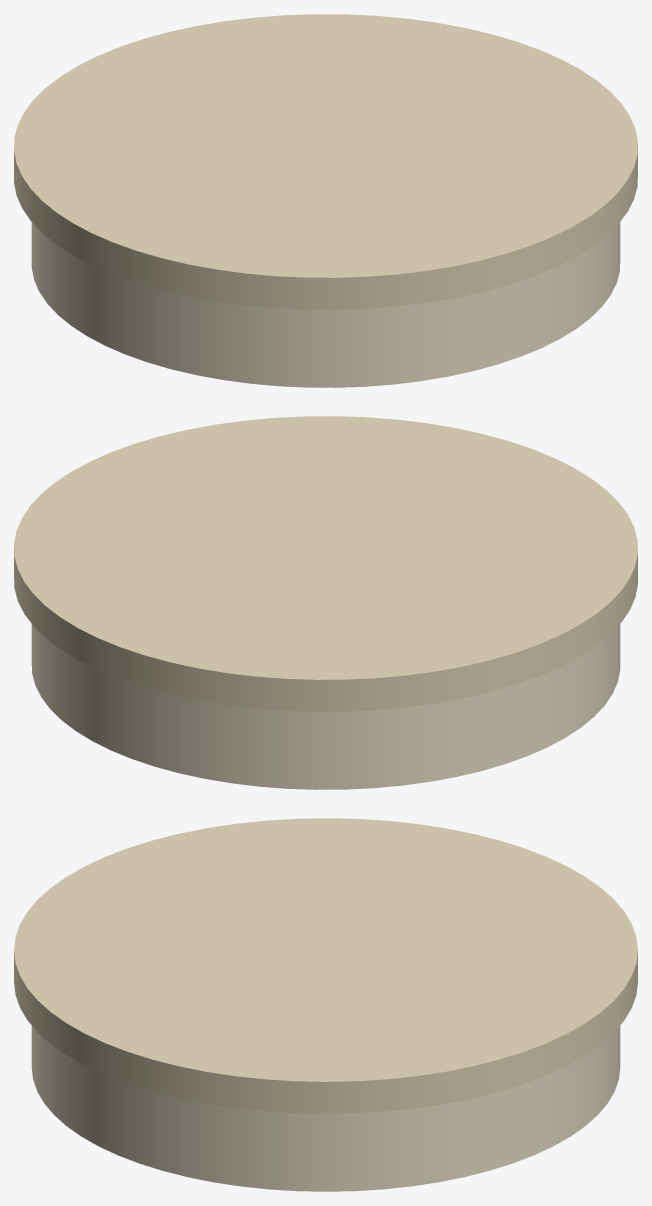
File: sample-model.glb
3 views of the same model, one above another, from view 1: azimuth 30°, elevation 25°; view 2: azimuth 150°, elevation 25°; view 3: azimuth 270°, elevation 25° (orthographic).
Bounding box in the file's own units: 2.12 × 0.44 × 2.12.
